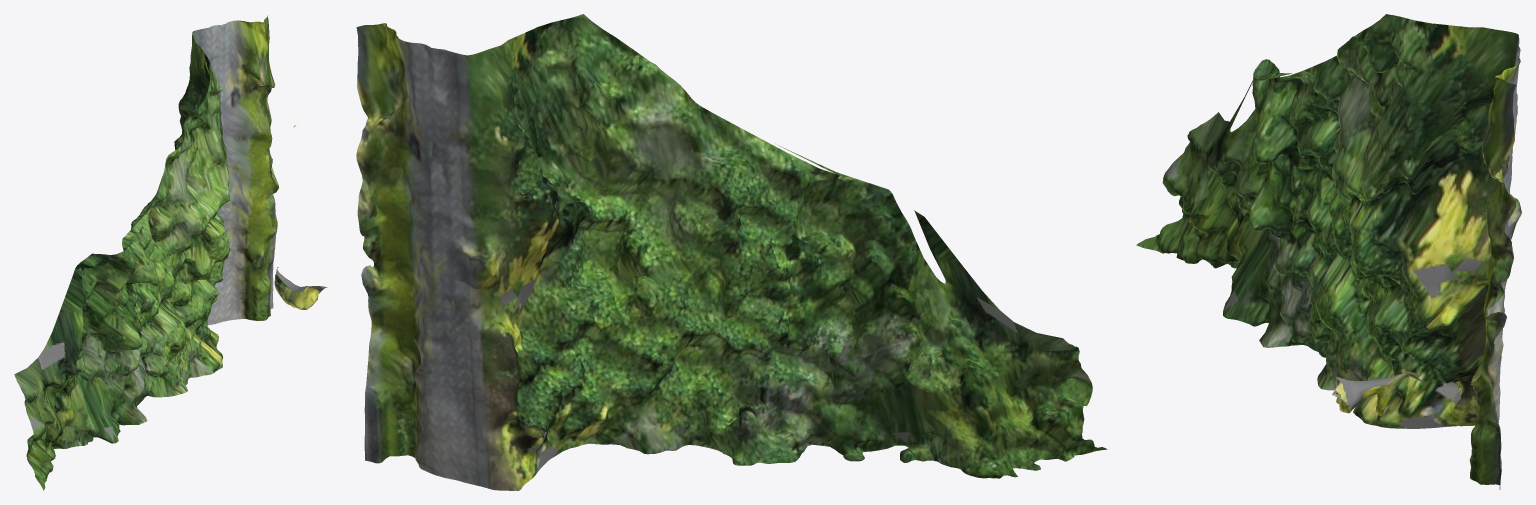
The model's file is Tile_+011_+032.fbx.
The picture shows the model from 3 angles, left to right: view 1: azimuth 30°, elevation 25°; view 2: azimuth 150°, elevation 25°; view 3: azimuth 270°, elevation 25°; orthographic projection. The views are drawn at different scales.
Parts seen in each view (by area): view 1: DefaultName; view 2: DefaultName; view 3: DefaultName.
Boxes of the visible parts, x1,y1,x2,y2 form: DefaultName: (14, 15, 327, 490); DefaultName: (356, 14, 1107, 490); DefaultName: (1136, 14, 1521, 489).
Bounding box in the file's own units: 22.54 × 17.37 × 14.95.
